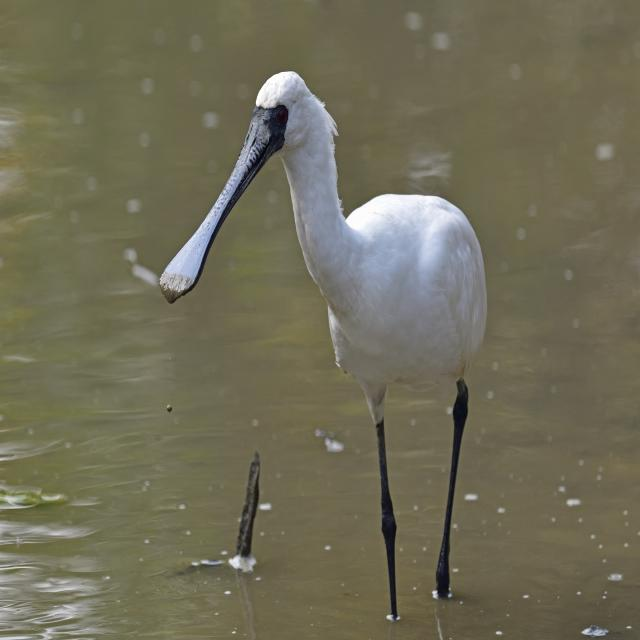Black-faced spoonbill: (160, 72, 486, 619)
